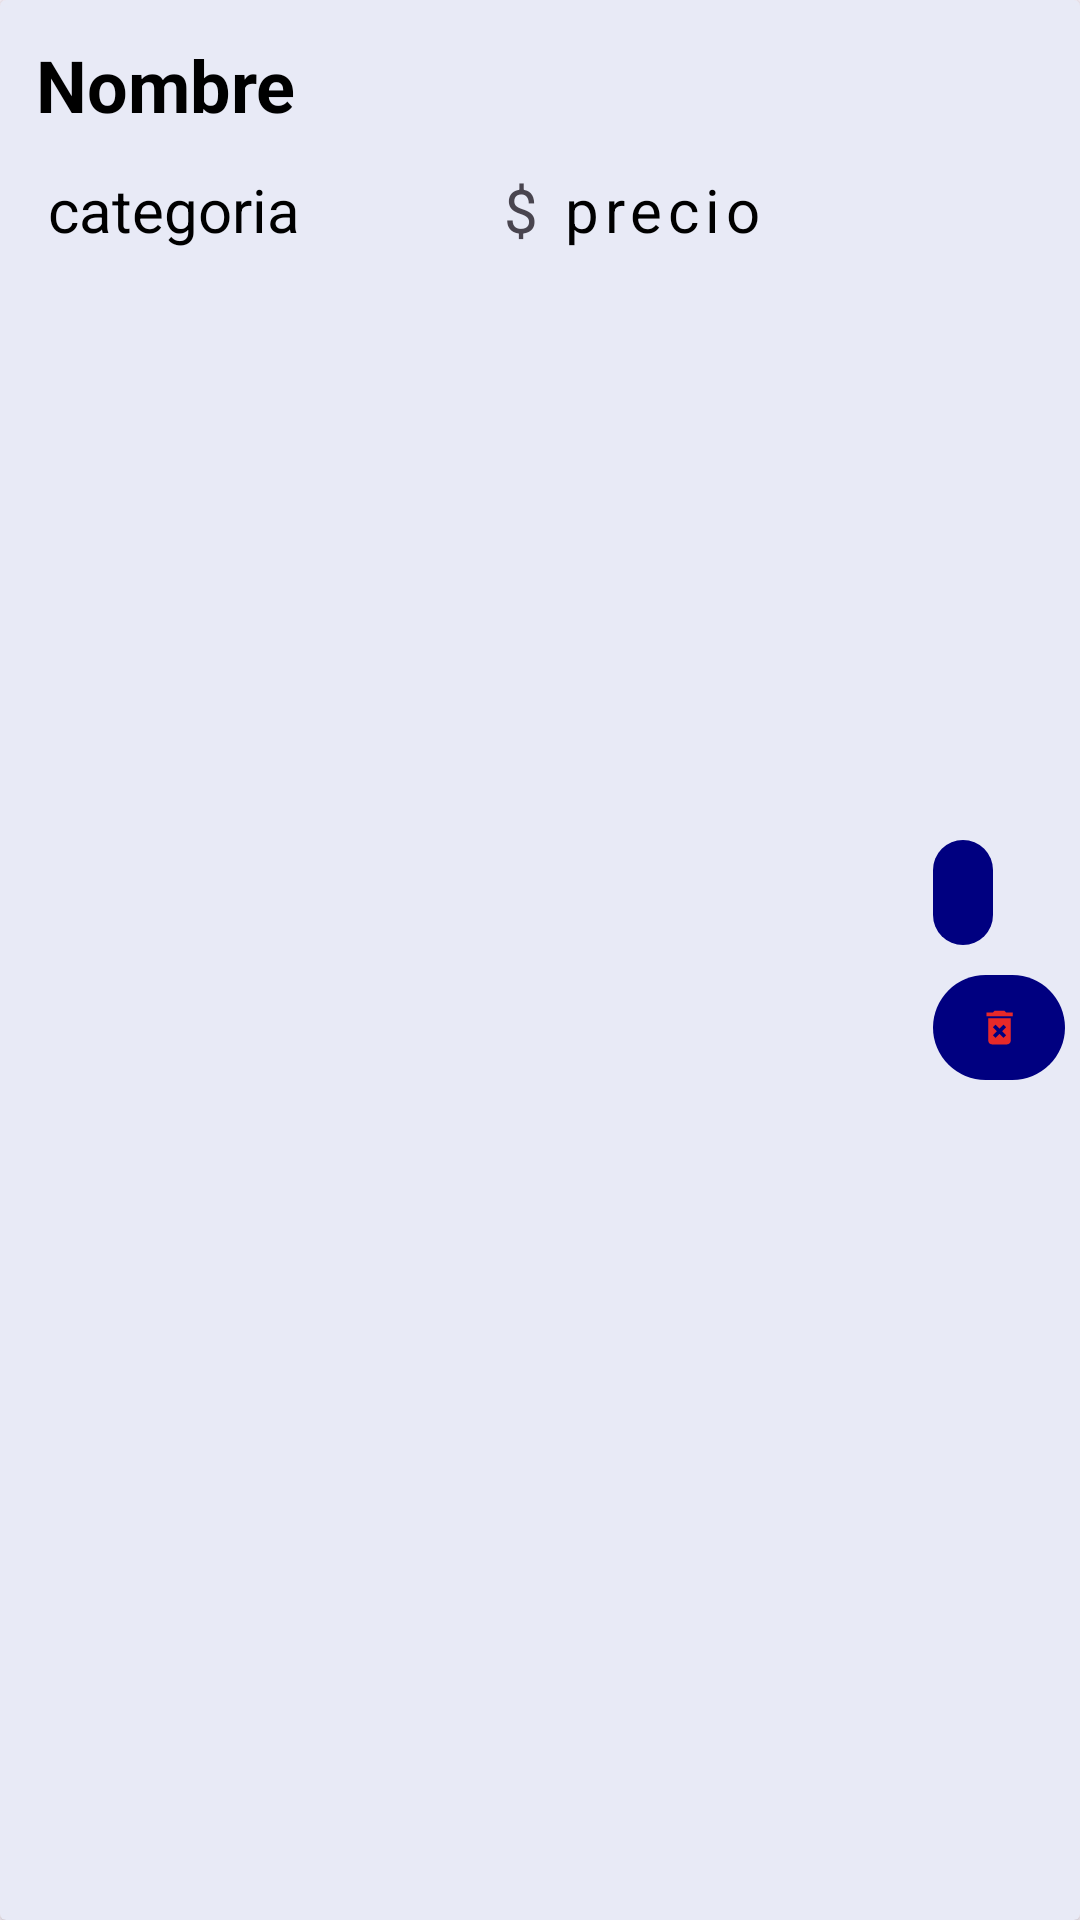

Screen size 1080×1920. Icon name, then its center in pixels as point (x, y):
delete forever: point (999, 1027)
